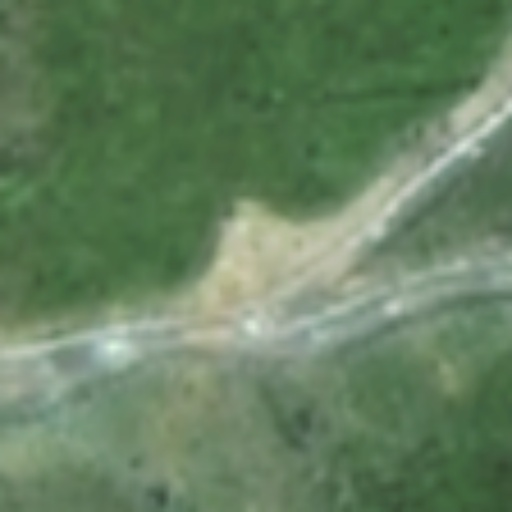landslide: (203, 201, 347, 316)
